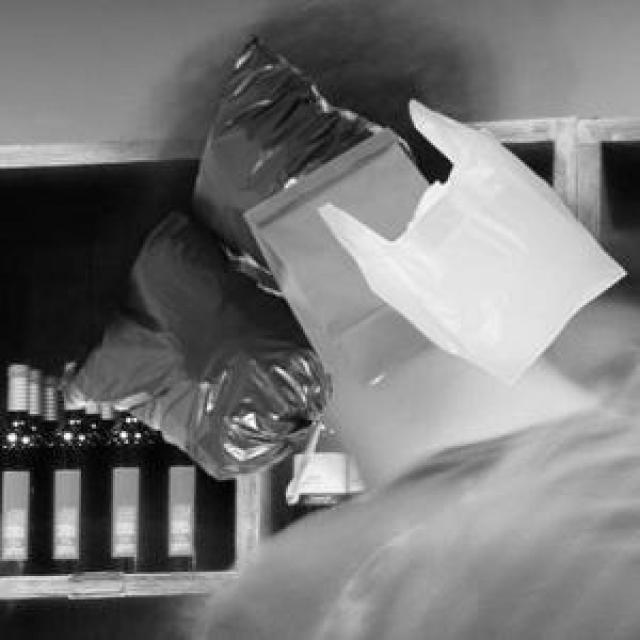miscellaneous trash: (51, 30, 412, 499)
paper: (241, 124, 427, 384)
